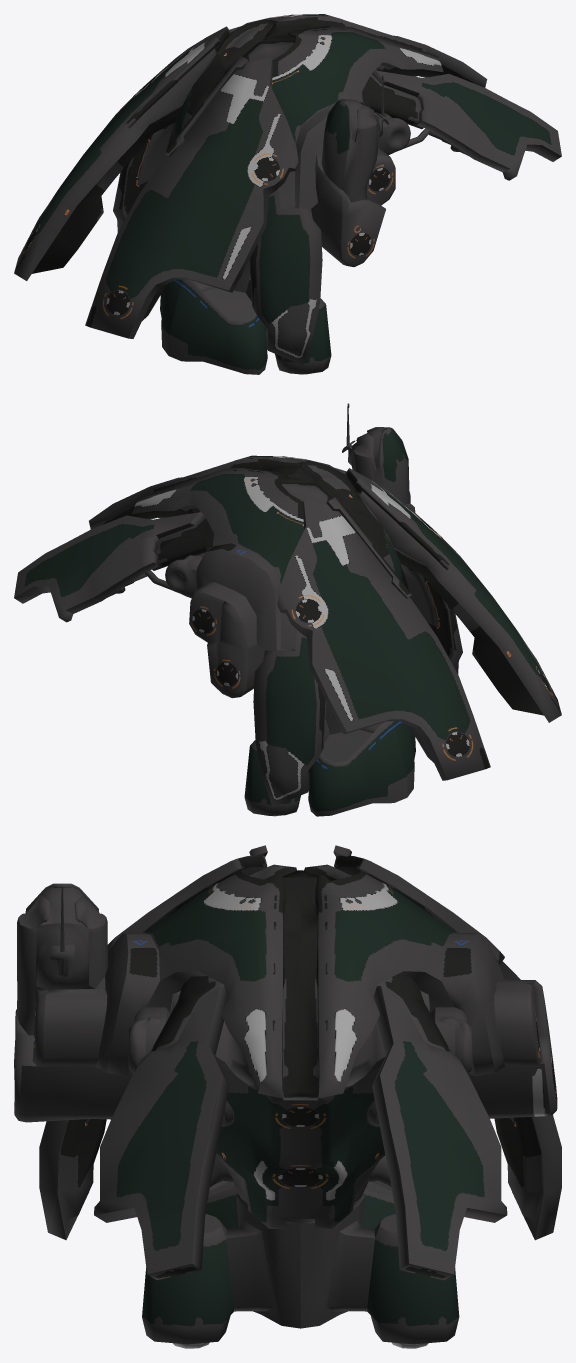
File: tristan.glb
The picture shows the model from 3 angles, top to bottom: view 1: azimuth 30°, elevation 25°; view 2: azimuth 150°, elevation 25°; view 3: azimuth 270°, elevation 25°; orthographic projection. The views are drawn at different scales.
Visible parts, largest first — view 1: Tristan; view 2: Tristan; view 3: Tristan.
Part boxes in pixels (x1,y1,x2,y2): Tristan: [14, 14, 561, 374]; Tristan: [14, 403, 561, 816]; Tristan: [14, 845, 561, 1348].
Bounding box in the file's own units: 75.54 × 47.99 × 49.34.
1 material, 1 textured.
